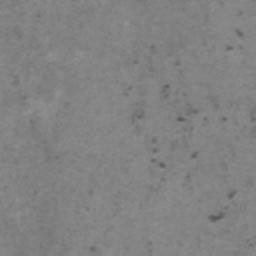Oxide scale of temperature system: (209, 213, 224, 222)
